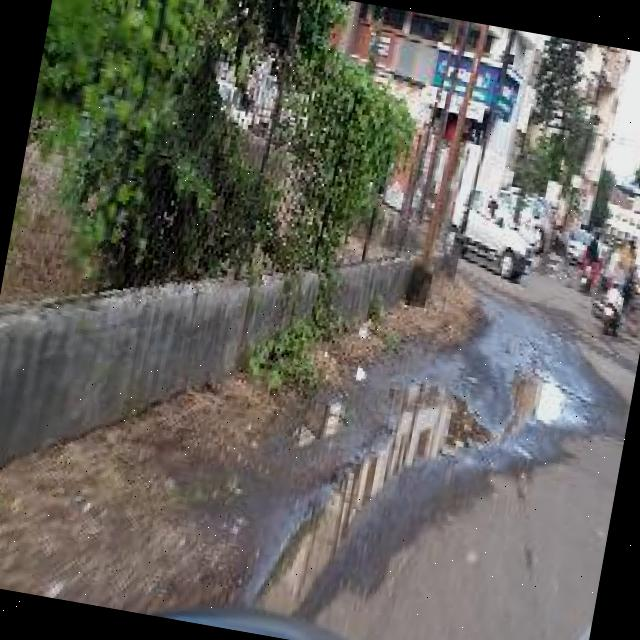stagnation: (249, 377, 486, 619), (518, 362, 572, 424)
